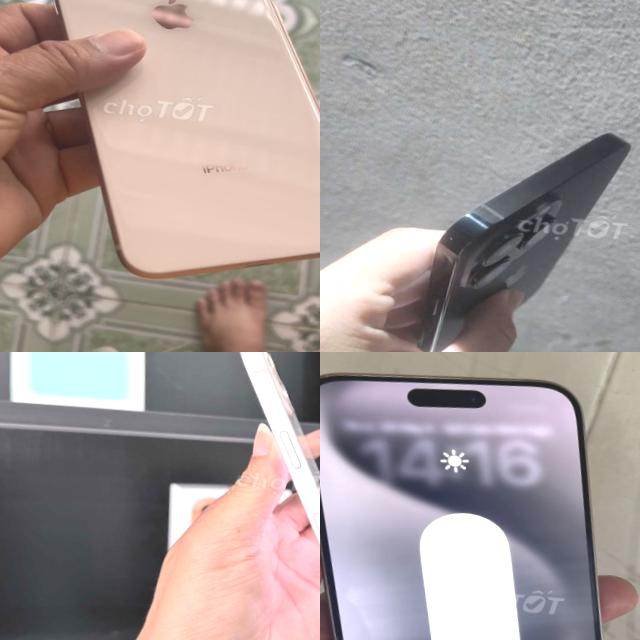gen_12_13: (201, 352, 320, 640)
gen_14: (397, 112, 637, 352)
gen_15: (320, 353, 640, 640)
gen_7_8: (11, 0, 320, 300)
